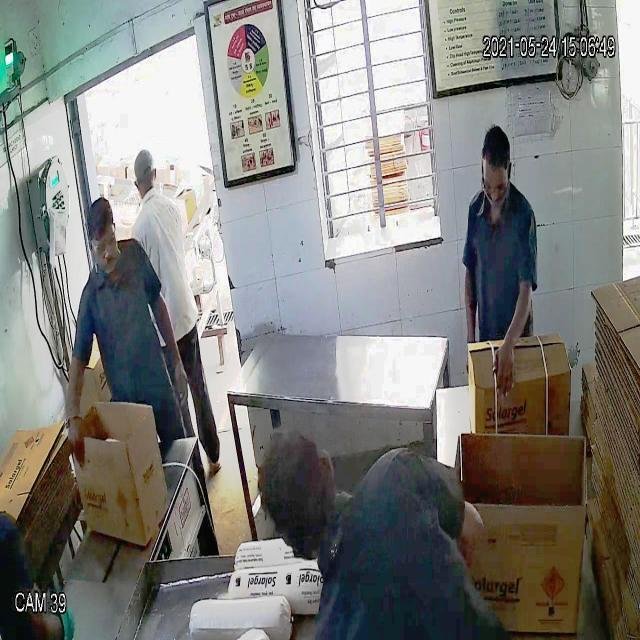glasses: (476, 170, 514, 203), (86, 226, 120, 256)
